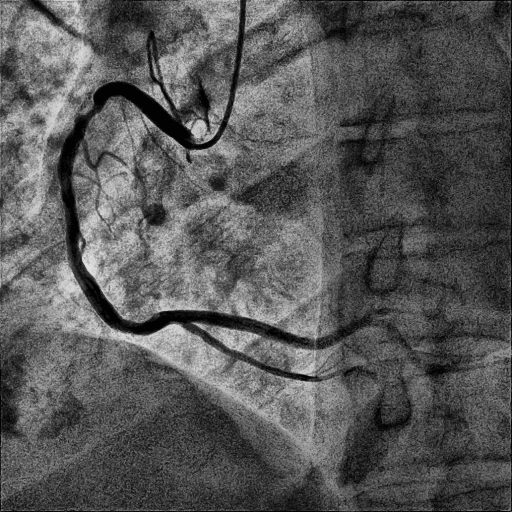pborca: (181, 310, 373, 349)
pda: (181, 322, 380, 383)
rca: (58, 81, 194, 337)
